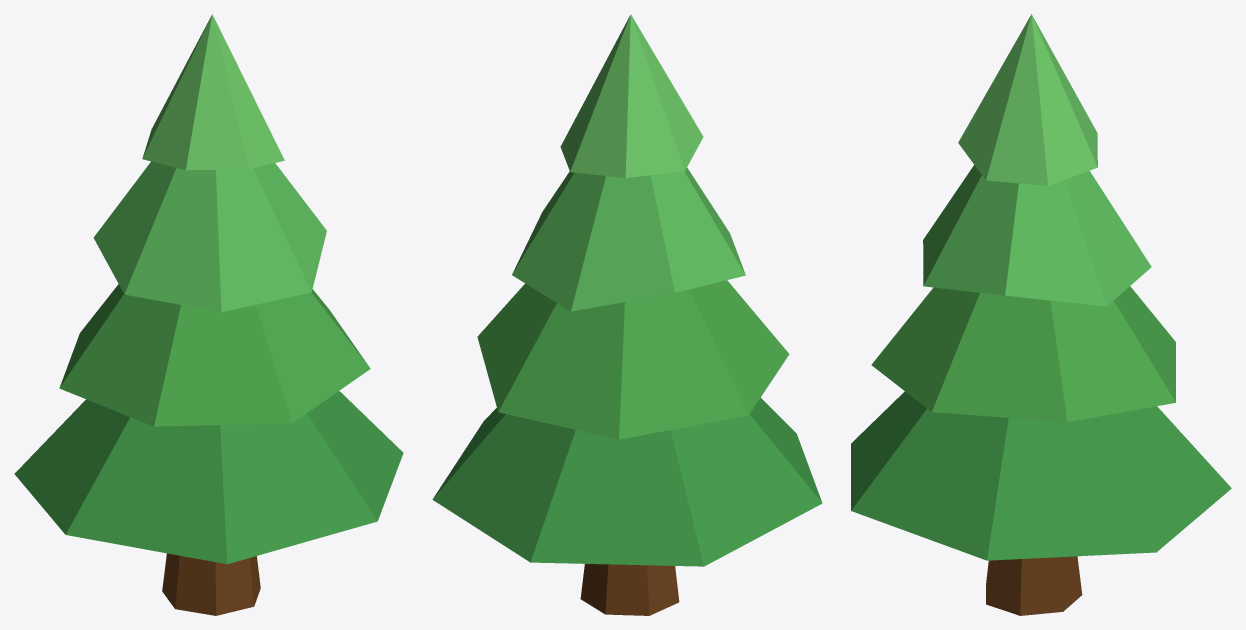
File: tanne.glb
3 views of the same model, side by side, from view 1: azimuth 30°, elevation 25°; view 2: azimuth 150°, elevation 25°; view 3: azimuth 270°, elevation 25° (orthographic).
Visible parts, largest first — view 1: laub, stamm; view 2: laub, stamm; view 3: laub, stamm.
Part boxes in pixels (x1,y1,x2,y2): laub: (14,14,403,564); stamm: (162,553,260,615); laub: (432,14,822,566); stamm: (580,564,679,615); laub: (851,14,1231,560); stamm: (986,556,1082,615).
Size of the model in its own units: 2.92 by 4.8 by 2.85.
